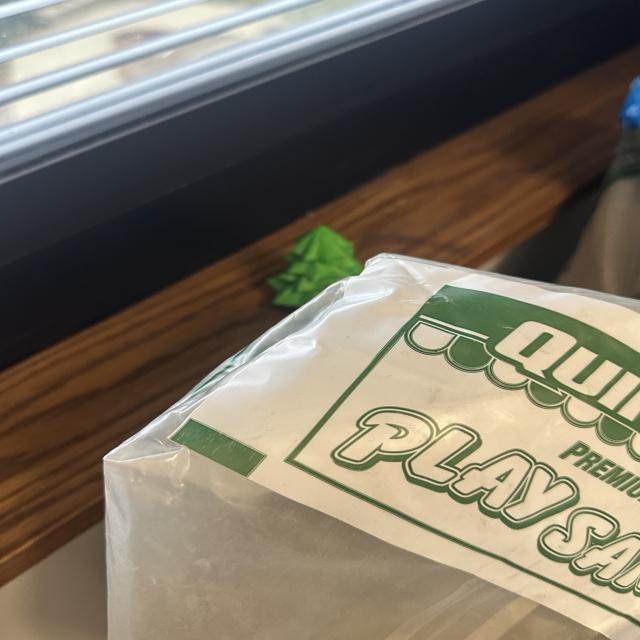tree: (264, 222, 366, 309)
